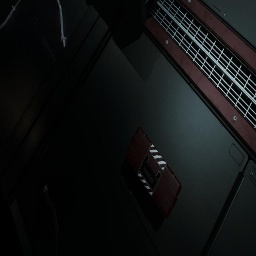FirstAidBox ,: (126, 127, 181, 218)
